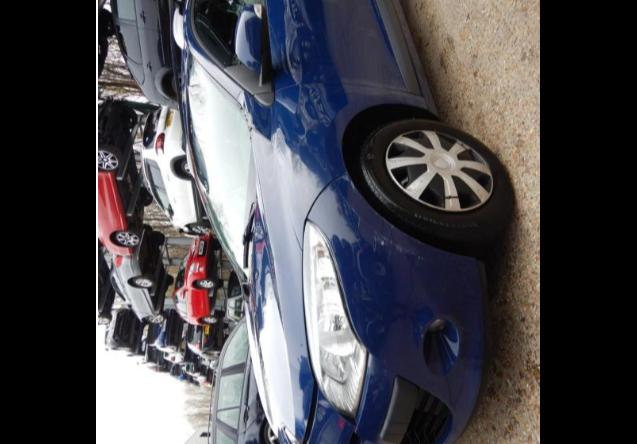Broken part: (300, 354, 320, 444), (236, 100, 254, 142)
Dent: (281, 0, 340, 146), (236, 88, 276, 142)
Scratch: (380, 234, 416, 254), (374, 380, 388, 408), (345, 198, 360, 216), (252, 223, 266, 242), (338, 174, 356, 188), (420, 324, 426, 338), (386, 220, 396, 228), (374, 230, 376, 250), (388, 250, 392, 260), (418, 255, 426, 260), (358, 216, 360, 234), (406, 188, 420, 190), (421, 180, 424, 184)
